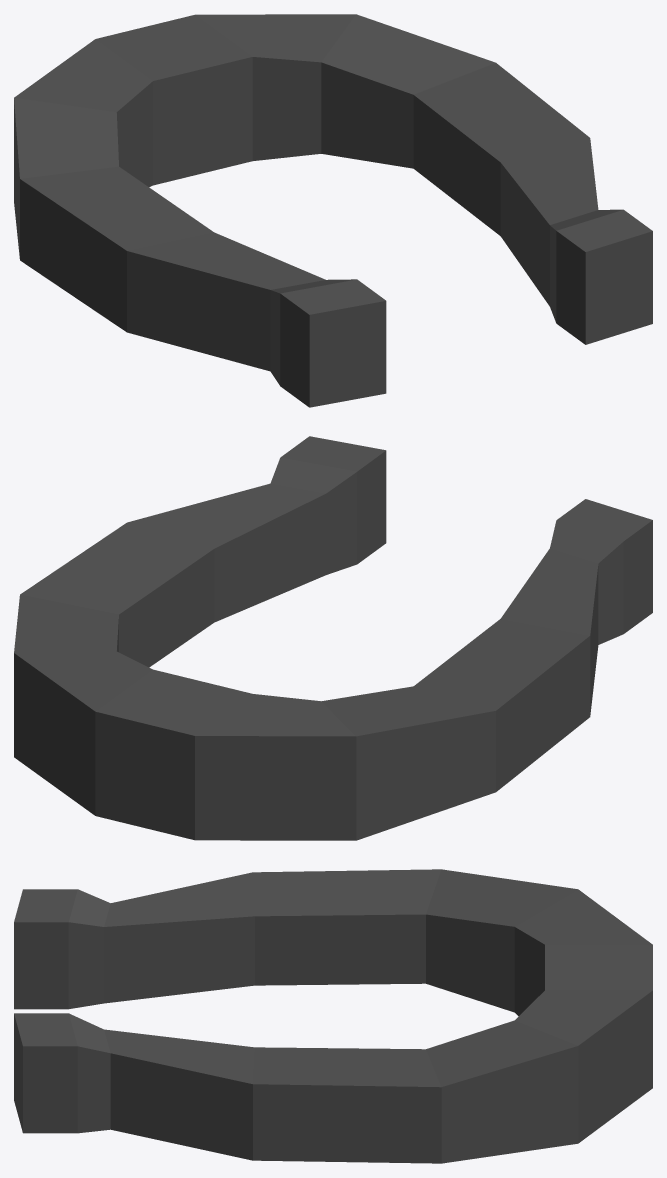
File: horseshoe01.obj
3 renders of one model, top to bottom at view 1: azimuth 30°, elevation 25°; view 2: azimuth 150°, elevation 25°; view 3: azimuth 270°, elevation 25°, orthographic. The views are drawn at different scales.
Visible parts, largest first — view 1: Cube_Cube.001; view 2: Cube_Cube.001; view 3: Cube_Cube.001.
Part boxes in pixels (x1,y1,x2,y2): Cube_Cube.001: (14,14,652,407); Cube_Cube.001: (14,436,652,840); Cube_Cube.001: (14,869,652,1163).
Size of the model in its own units: 0.1518 by 0.0318 by 0.1882.
